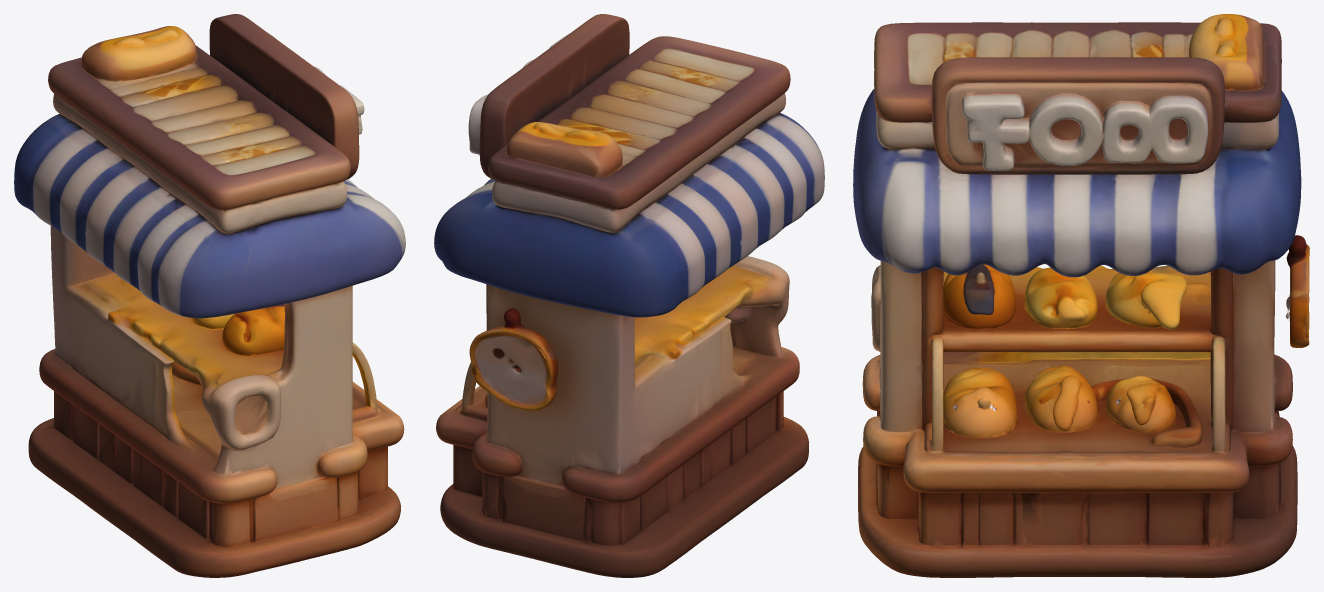
File: building-bakery.glb
3 views of the same model, side by side, from view 1: azimuth 30°, elevation 25°; view 2: azimuth 150°, elevation 25°; view 3: azimuth 270°, elevation 25° (orthographic). The views are drawn at different scales.
Visible parts, largest first — view 1: tripo_node_3073b821-e8c1-451f-86a6-7f4d9f1a1b6f; view 2: tripo_node_3073b821-e8c1-451f-86a6-7f4d9f1a1b6f; view 3: tripo_node_3073b821-e8c1-451f-86a6-7f4d9f1a1b6f.
Part boxes in pixels (x1=…): tripo_node_3073b821-e8c1-451f-86a6-7f4d9f1a1b6f: x1=14, y1=14, x2=405, y2=577; tripo_node_3073b821-e8c1-451f-86a6-7f4d9f1a1b6f: x1=434, y1=14, x2=824, y2=577; tripo_node_3073b821-e8c1-451f-86a6-7f4d9f1a1b6f: x1=853, y1=14, x2=1309, y2=577.
Bounding box in the file's own units: 3.01 × 5 × 4.19.
Materials: 1 (1 with a texture image).
